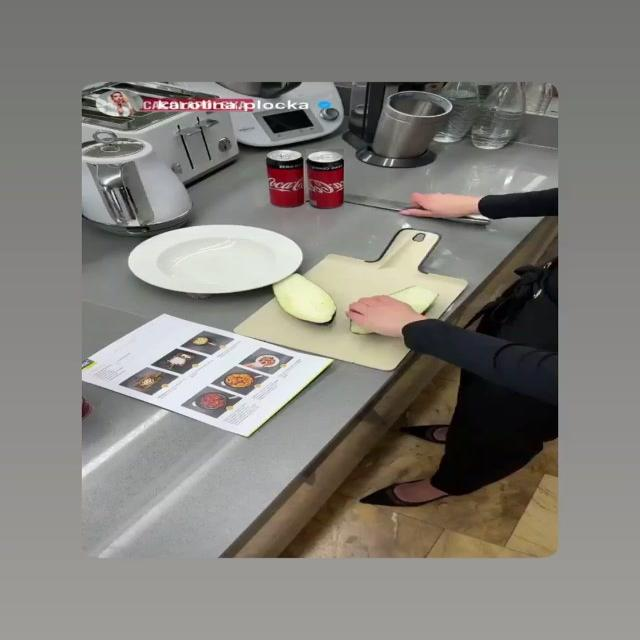coca-cola: (261, 147, 306, 208), (306, 149, 344, 210)
